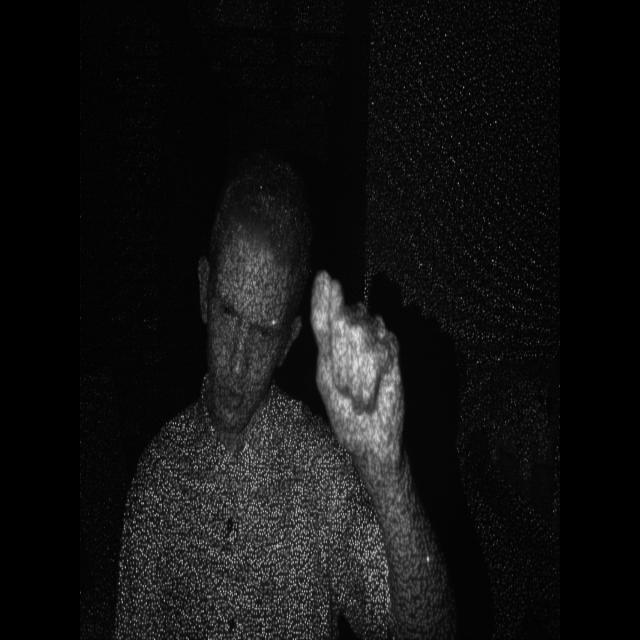T: (299, 254, 422, 486)
